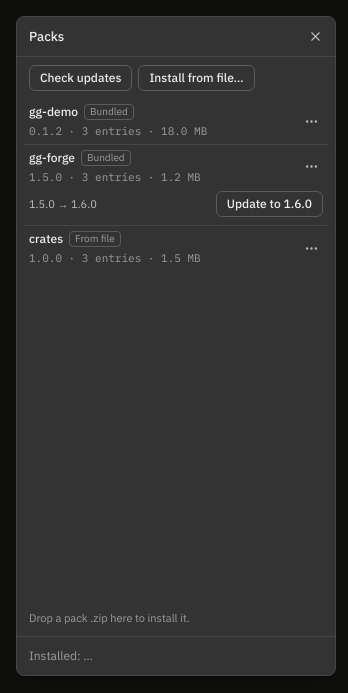
Test: PacksSheet › an update source that cannot be reached says so and keeps the updates already known
The image size is (348, 693).
Click the button "Check updates": (81, 78) 29,65 -> 132,91
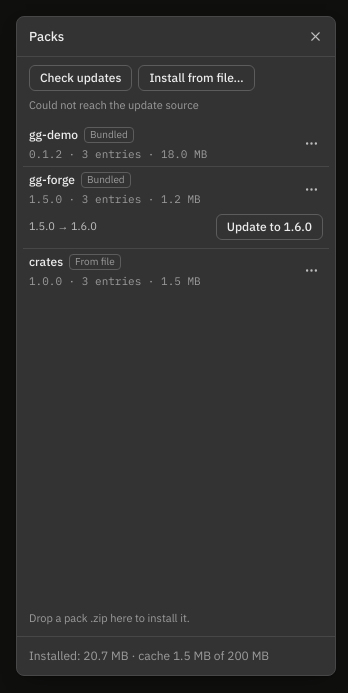
Expected: the button "Update to 1.6.0" is shown, 216,214 -> 323,240
Expected: the message reads "Could not reach the update source", 29,98 -> 199,112
Click the button "Check updates": (81, 78) 29,65 -> 132,91
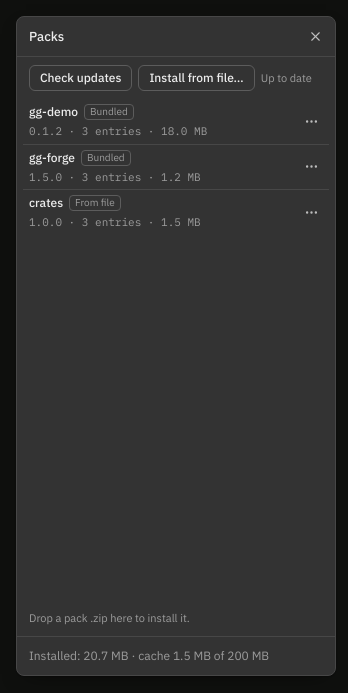
Expected: the message reads "Up to date", 261,71 -> 312,85
